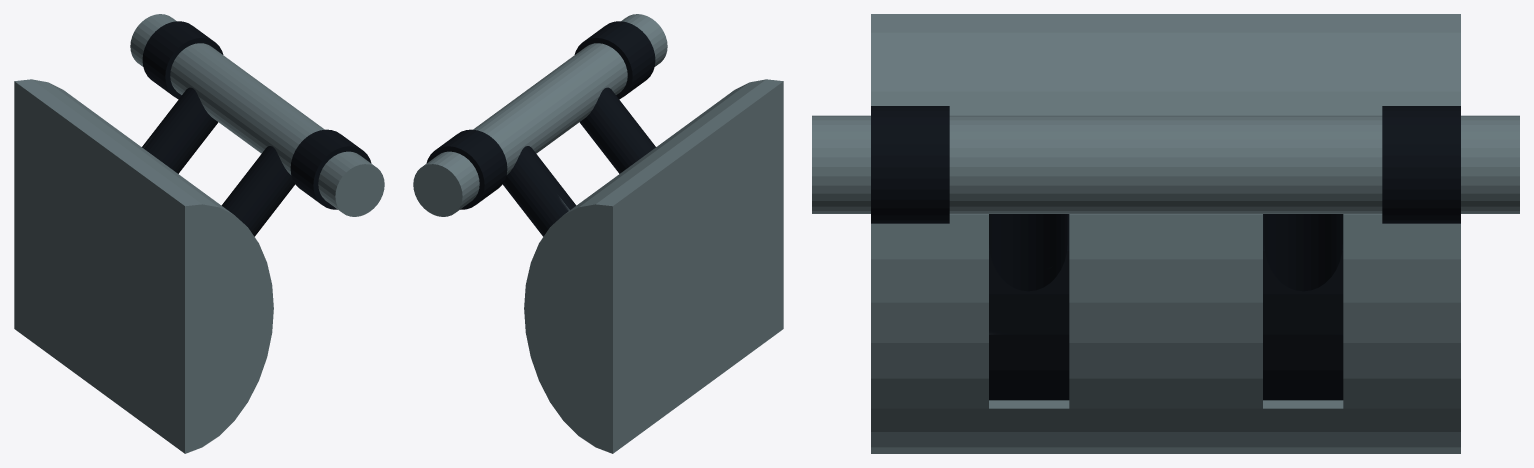
File: Task-trash.glb
3 views of the same model, side by side, from view 1: azimuth 30°, elevation 25°; view 2: azimuth 150°, elevation 25°; view 3: azimuth 270°, elevation 25° (orthographic). The views are drawn at different scales.
Parts seen in each view (by area): view 1: Cylinder.003; view 2: Cylinder.003; view 3: Cylinder.003.
Boxes of the visible parts, x1,y1,x2,y2 form: Cylinder.003: (14, 14, 384, 453); Cylinder.003: (413, 14, 783, 453); Cylinder.003: (812, 14, 1519, 453).
Size of the model in its own units: 1.9 by 2.6 by 3.6.
1 material, 1 textured.
